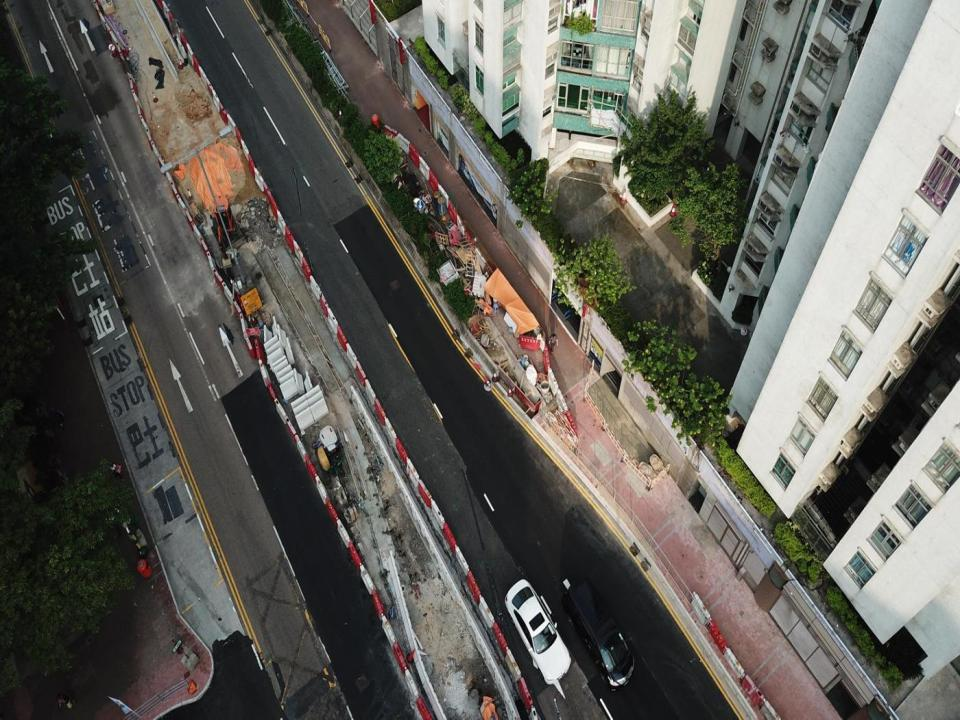car: (504, 578, 571, 684)
van: (562, 576, 634, 690)
